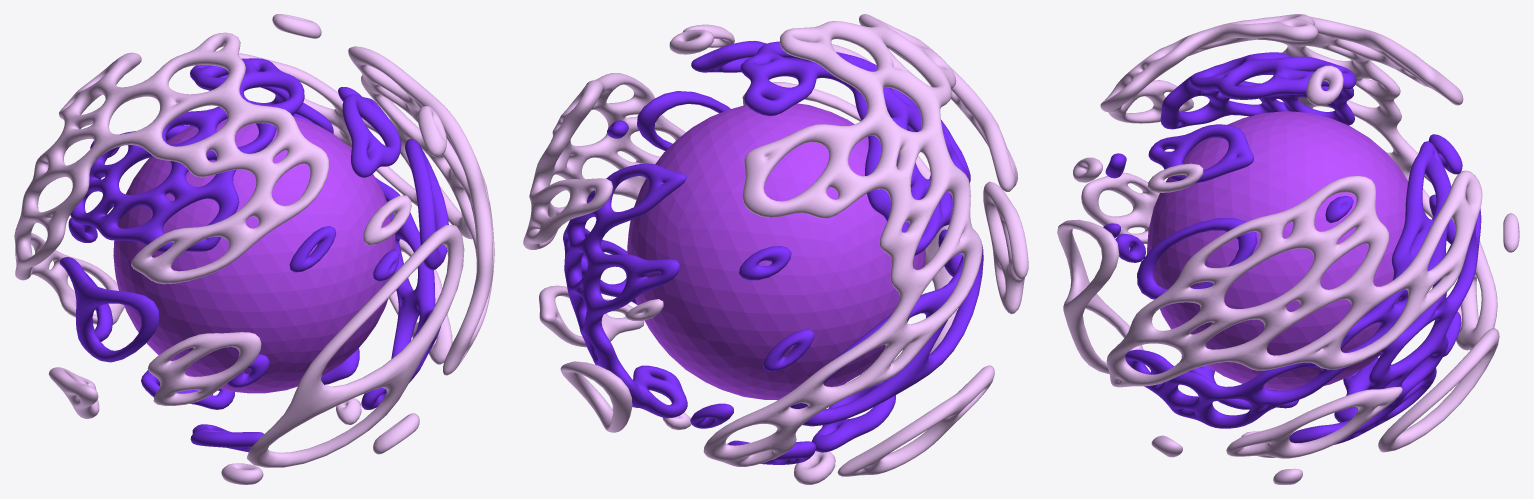
The model's file is tp_orb.fbx.
3 views of the same model, side by side, from view 1: azimuth 30°, elevation 25°; view 2: azimuth 150°, elevation 25°; view 3: azimuth 270°, elevation 25° (orthographic). The views are drawn at different scales.
Parts seen in each view (by area): view 1: Plane, Icosphere; view 2: Plane, Icosphere; view 3: Plane, Icosphere.
Boxes of the visible parts, <box> form: Plane: <box>14,14,494,484</box>; Icosphere: <box>113,116,396,393</box>; Plane: <box>523,14,1028,484</box>; Icosphere: <box>627,103,925,400</box>; Plane: <box>1057,14,1519,484</box>; Icosphere: <box>1147,111,1408,390</box>.
Size of the model in its own units: 232 by 235 by 229.
